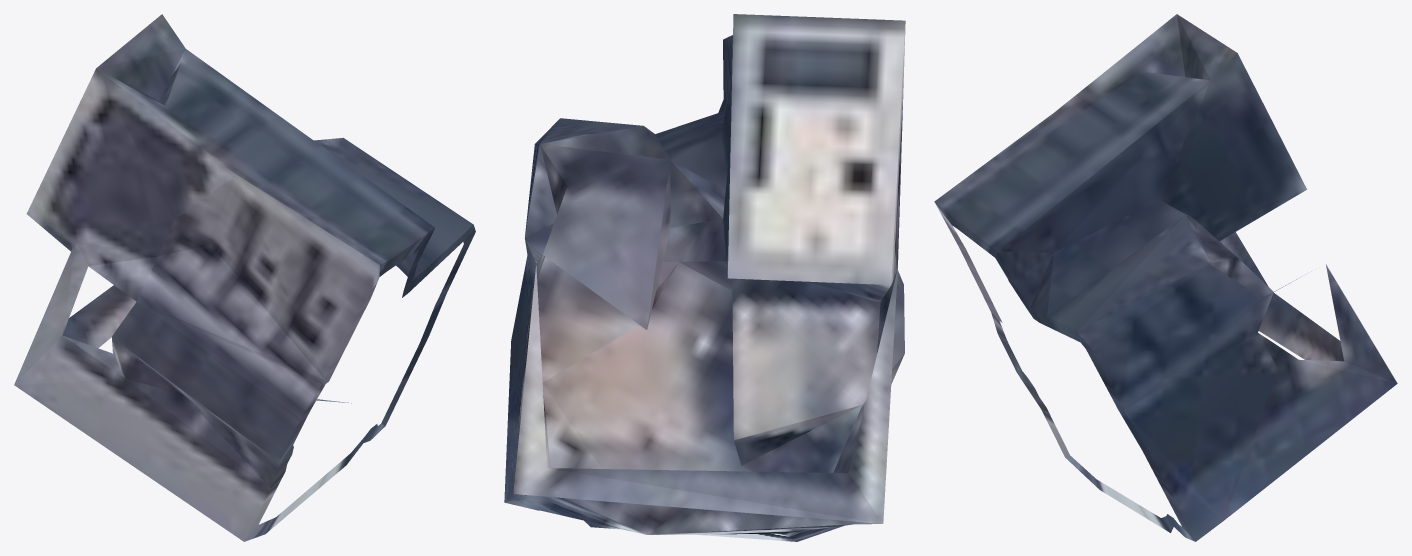
3 renders of one model, left to right at view 1: azimuth 30°, elevation 25°; view 2: azimuth 150°, elevation 25°; view 3: azimuth 270°, elevation 25°, orthographic. The views are drawn at different scales.
Size of the model in its own units: 19.64 by 24.16 by 23.87.
1 material, 1 textured.
